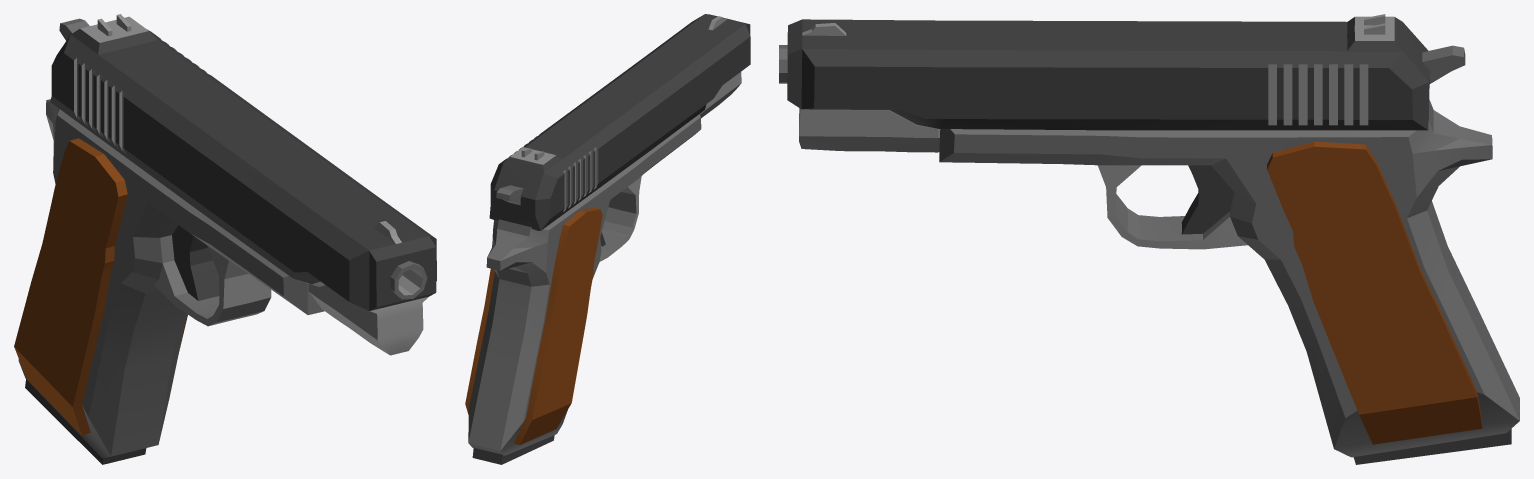
3 views of the same model, side by side, from view 1: azimuth 30°, elevation 25°; view 2: azimuth 150°, elevation 25°; view 3: azimuth 270°, elevation 25° (orthographic). The views are drawn at different scales.
Visible parts, largest first — view 1: pistol_1; view 2: pistol_1; view 3: pistol_1.
Part boxes in pixels (box(x1,y1,x2,y2)): pistol_1: box(14, 14, 436, 464); pistol_1: box(465, 14, 750, 464); pistol_1: box(779, 14, 1519, 464).
Size of the model in its own units: 9.37 by 39.06 by 60.31.
Materials: 1 (1 with a texture image).
